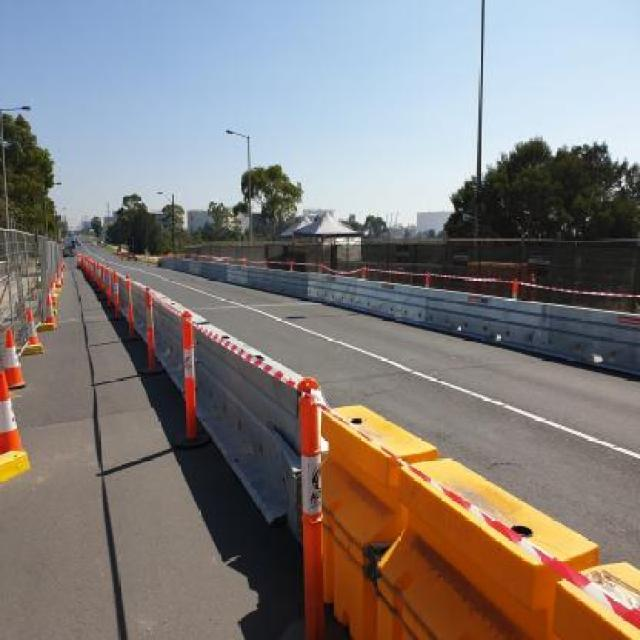fallen_object: (299, 379, 640, 640), (122, 273, 325, 550), (292, 256, 556, 353), (530, 282, 640, 386), (140, 243, 307, 296), (0, 307, 46, 456), (33, 242, 74, 325), (72, 232, 118, 300)
